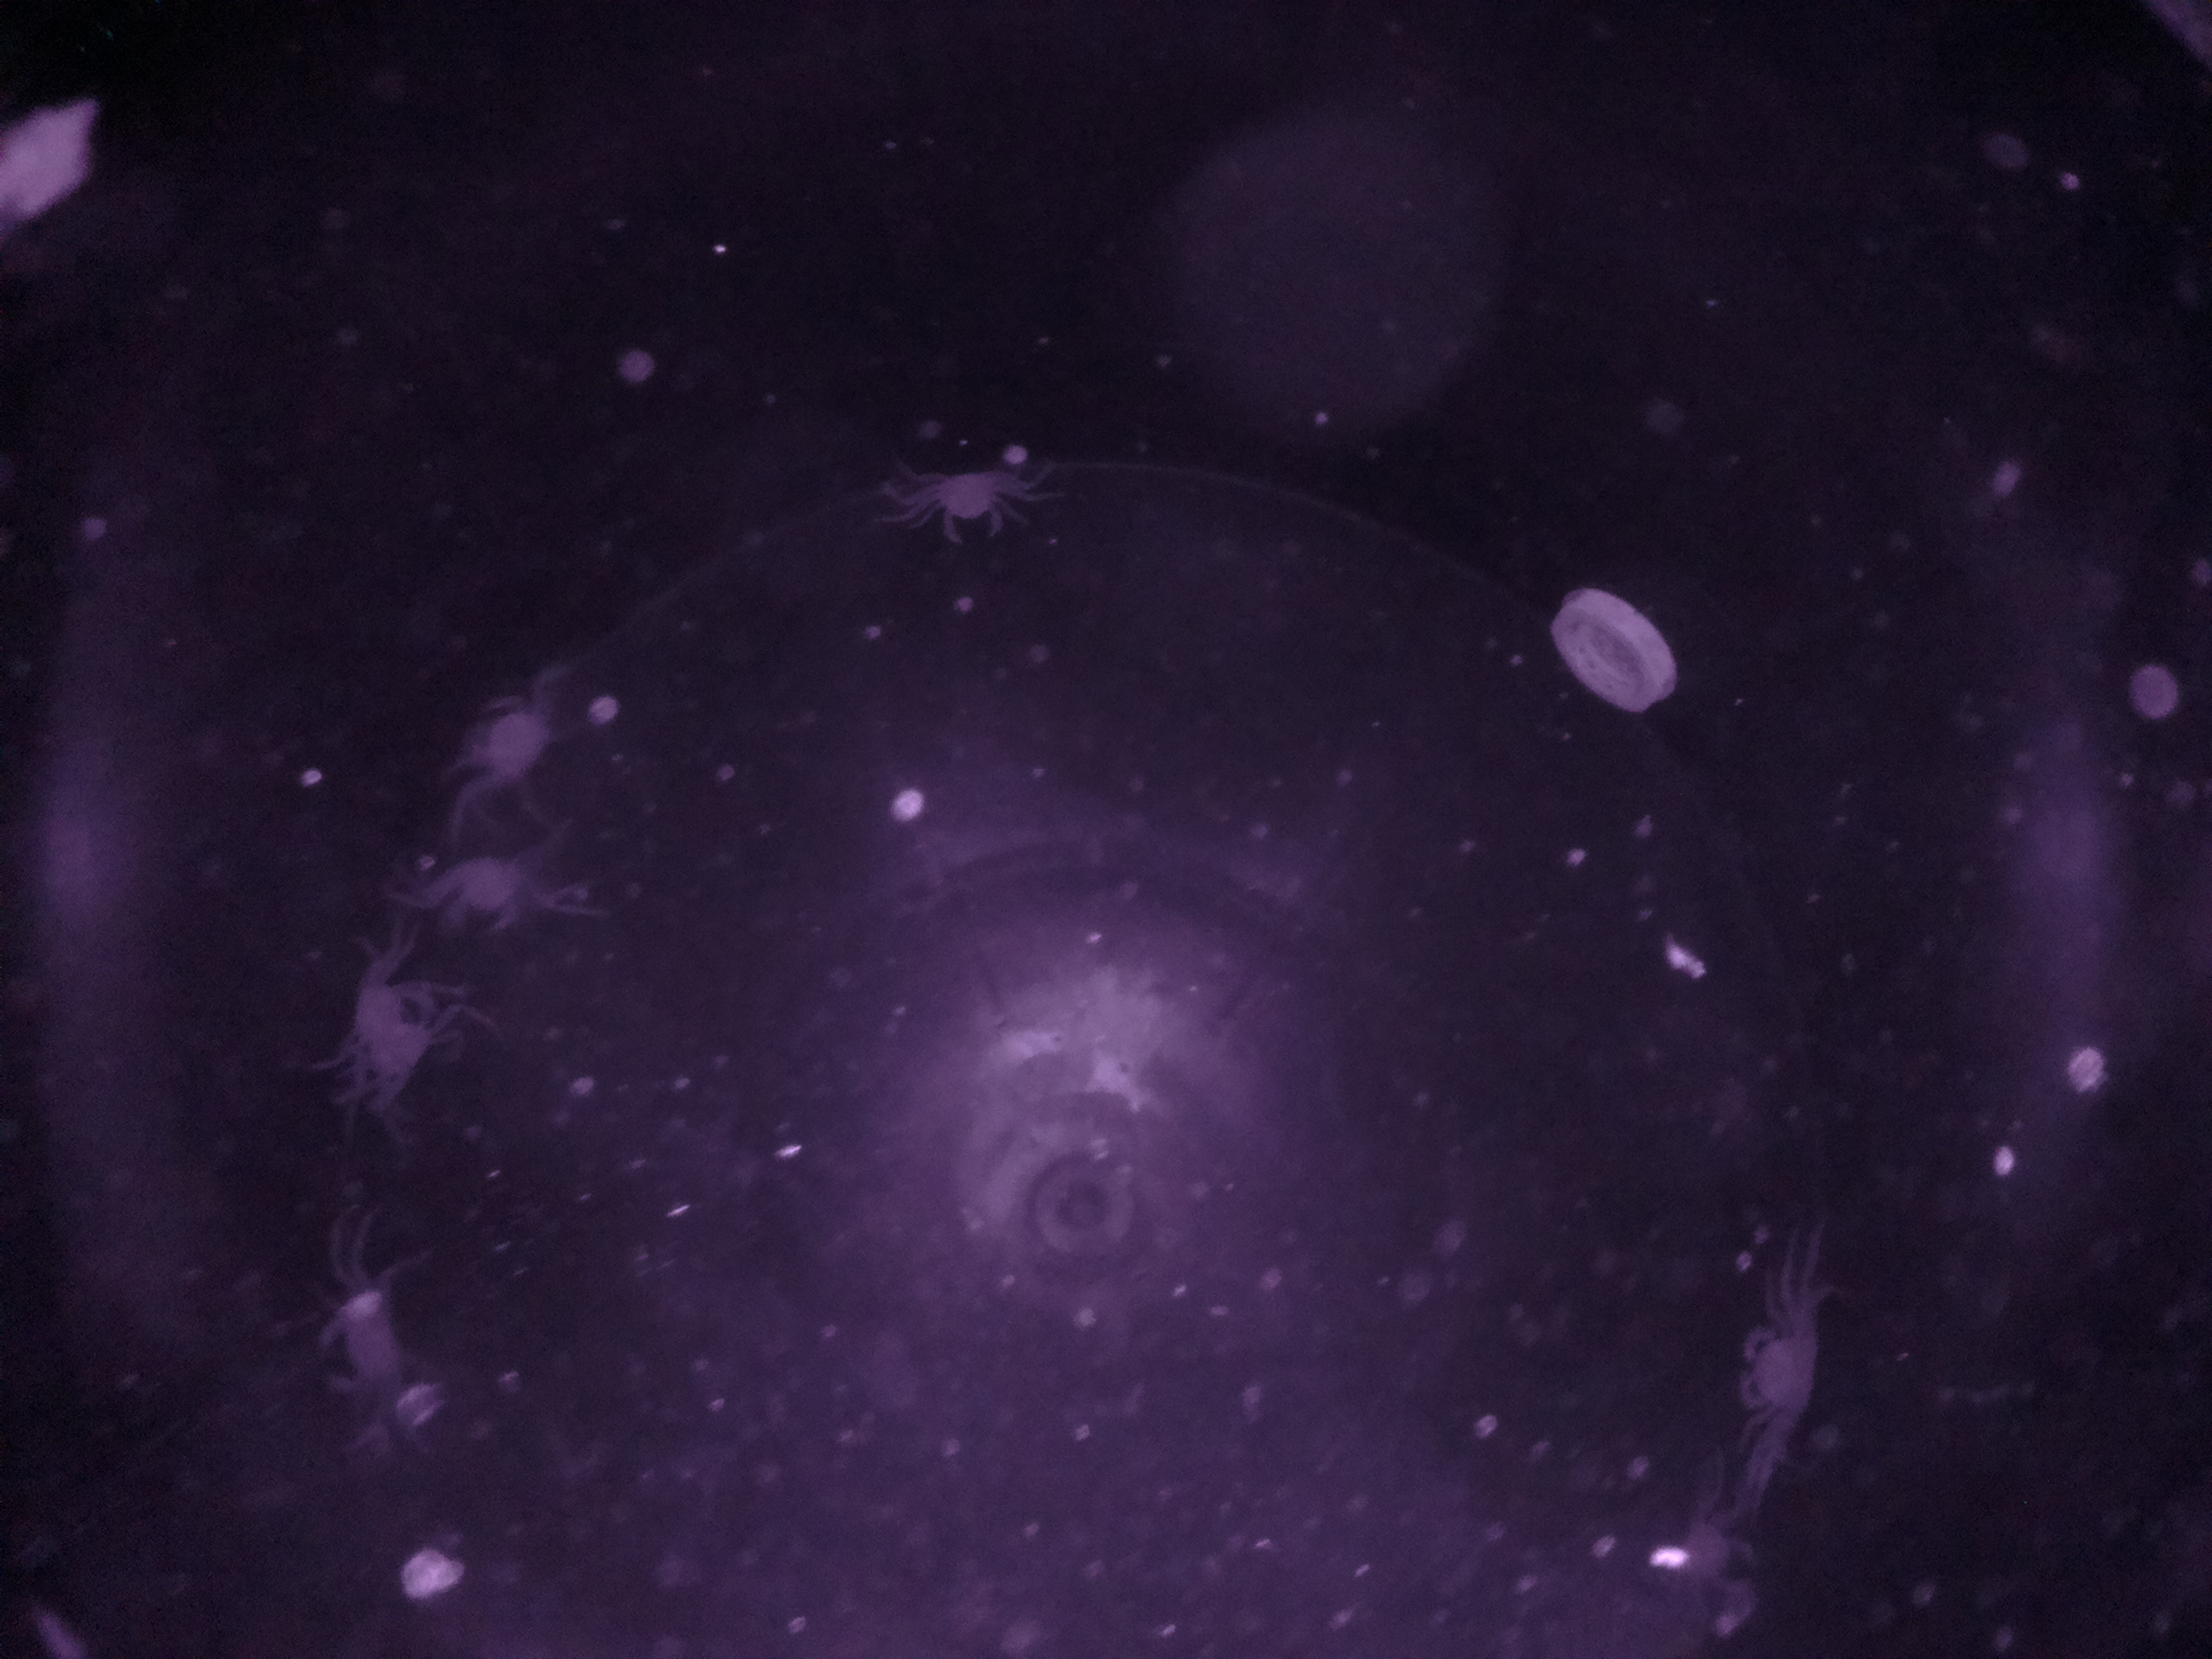Crab: (307, 1256, 446, 1427), (1716, 1286, 1843, 1443), (413, 824, 566, 951), (907, 441, 1026, 559)
